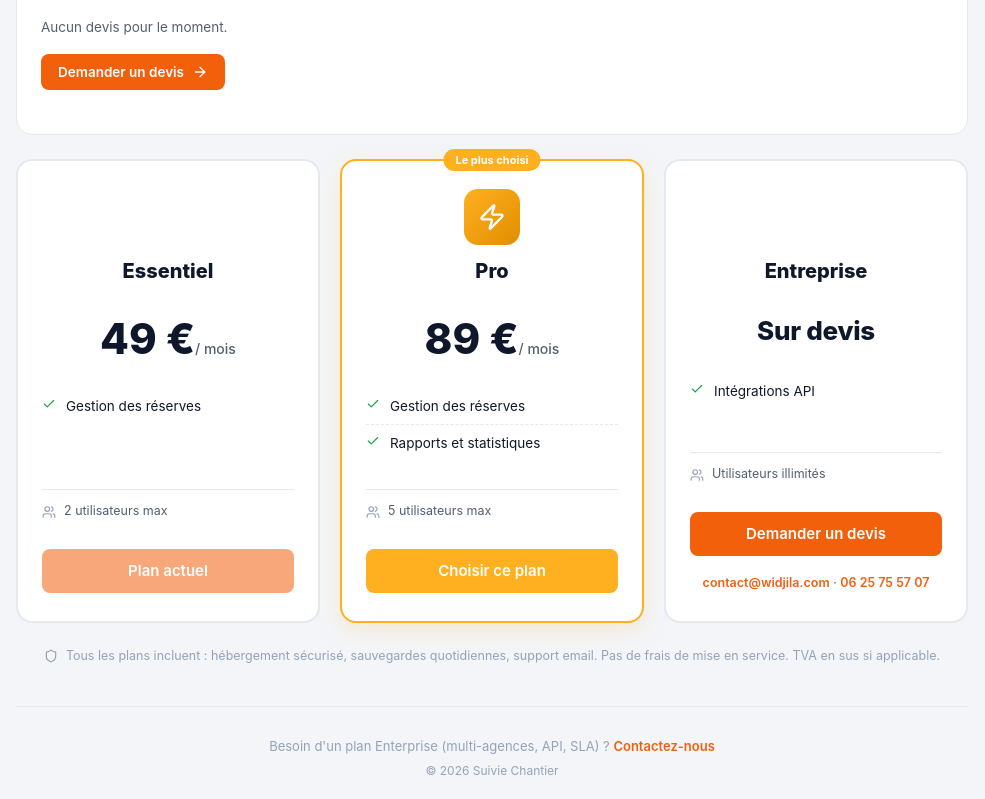
Test: abonnement en cours › seule la formule en cours est neutralisée : changer de formule reste possible
(page scrolled)
Check: the button "Plan actuel" is disabled, box [42,549,294,593]
Click the button "Choisir ce plan" at {"x": 492, "y": 571}, box [366,549,618,593]
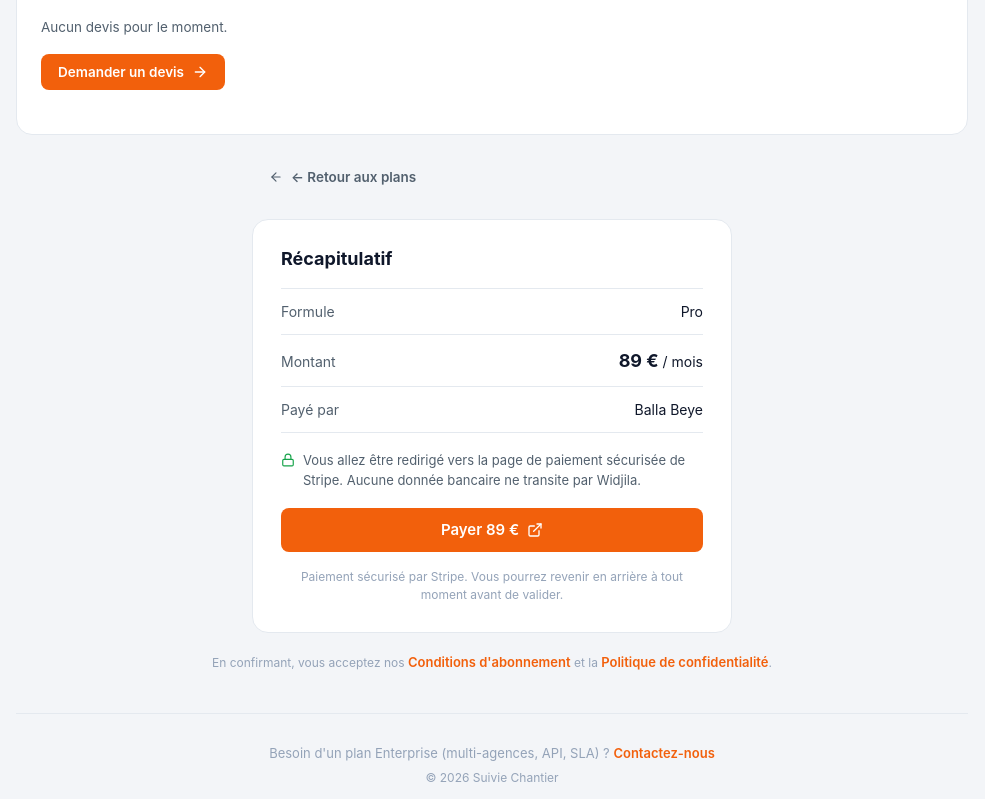
Check: the heading "Récapitulatif" is shown, box [281,248,392,269]
